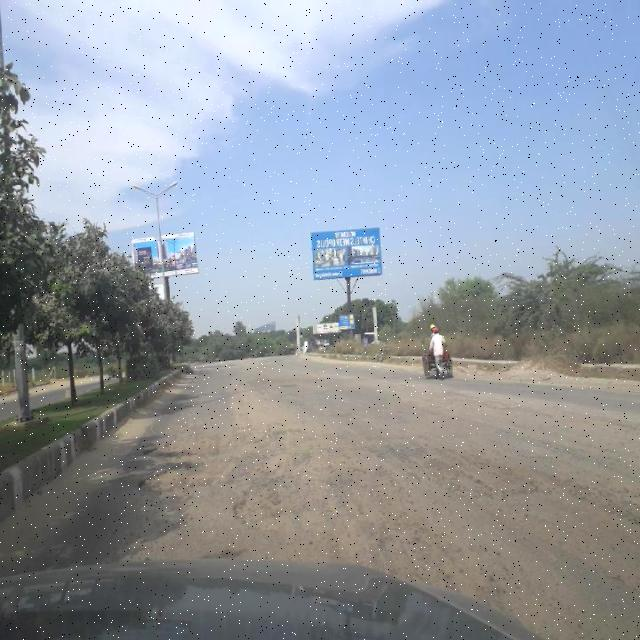D40: (227, 442, 410, 546), (118, 458, 220, 530), (137, 415, 218, 455)
